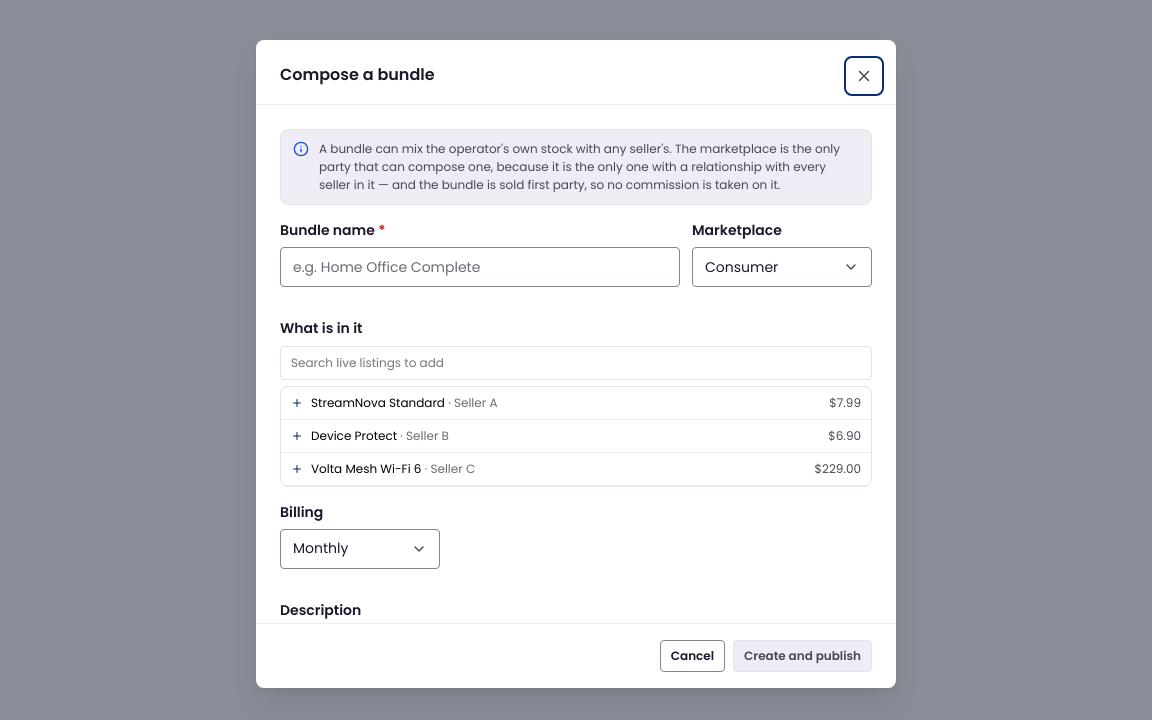
Test: Compose a bundle, priced line by line › applies a percentage to every line, stopping at each floor
The image size is (1152, 720).
Step 1. Click the button "StreamNova Standard · Seller A $7.99" → [378, 402], box [281,387,871,420]
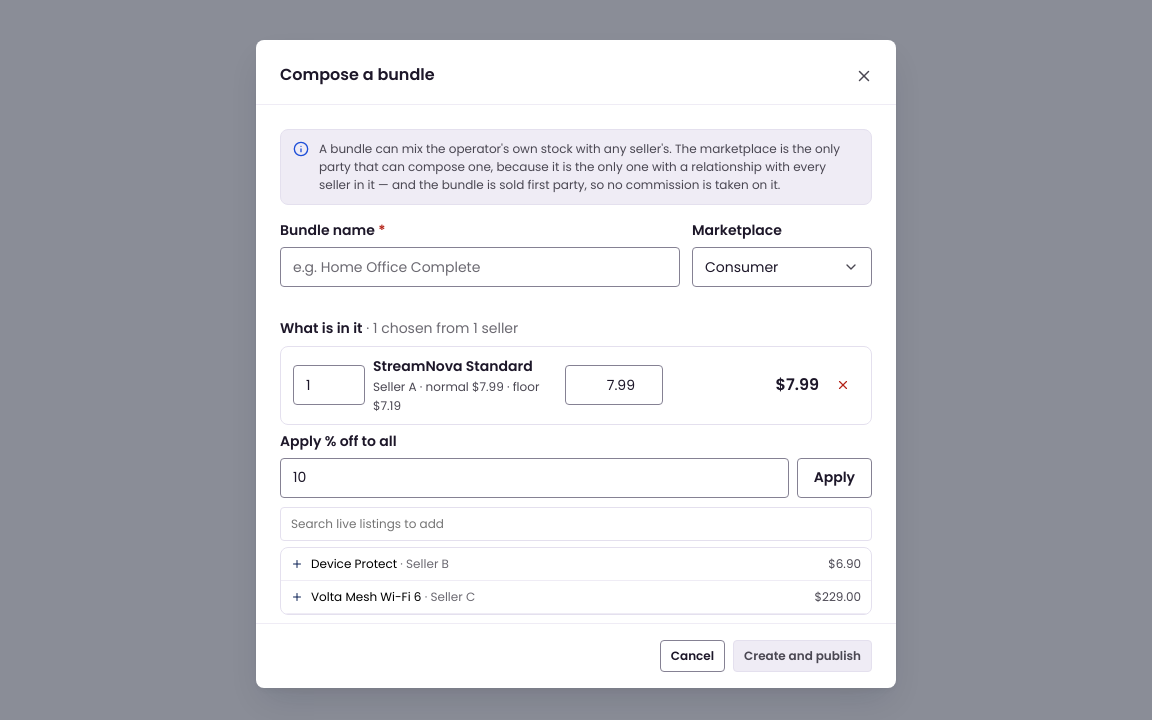
Step 2. Click the button "Volta Mesh Wi-Fi 6 · Seller C $229.00" → [366, 596], box [281,581,871,614]
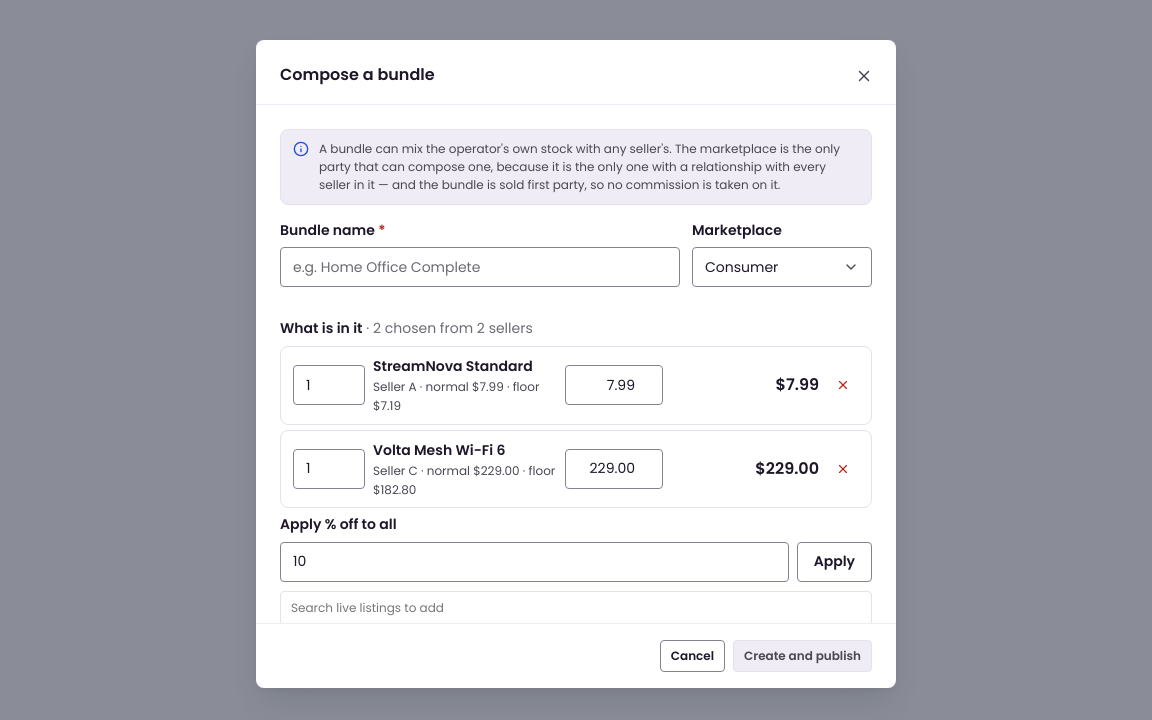
Step 3. Replace the text in the number field labelled "Apply % off to all" with "20" → [534, 562], box [280,542,789,582]
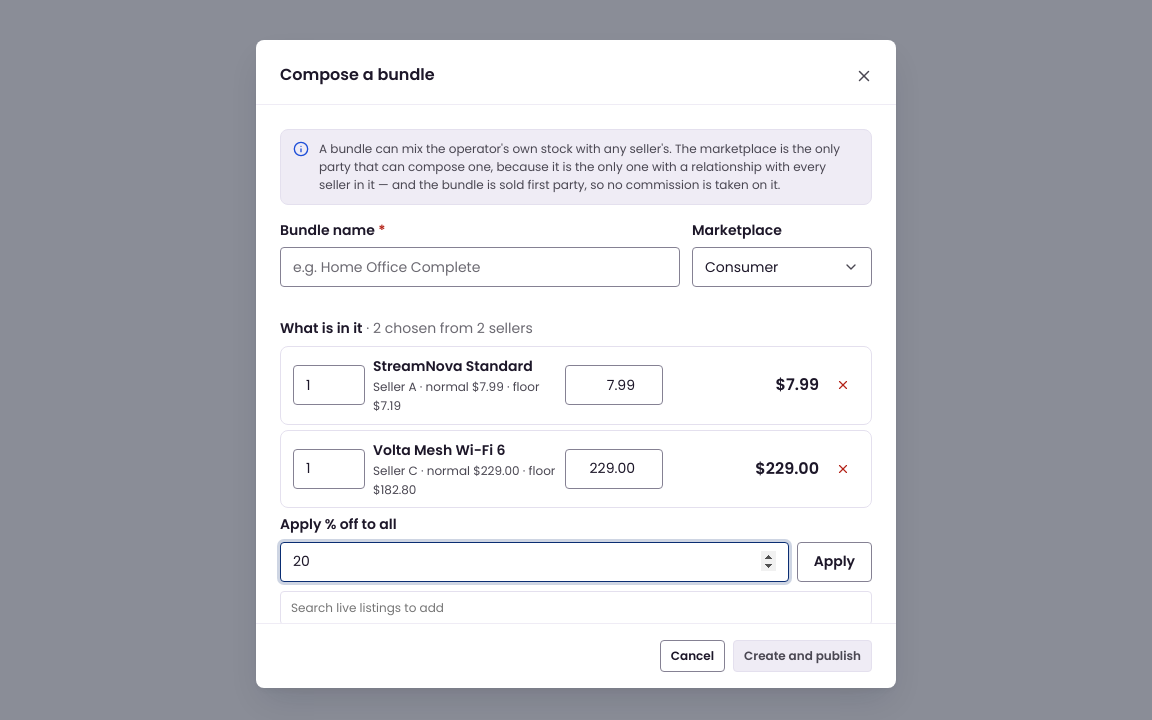
Step 4. Click the button "Apply" → [834, 562], box [797,542,872,582]
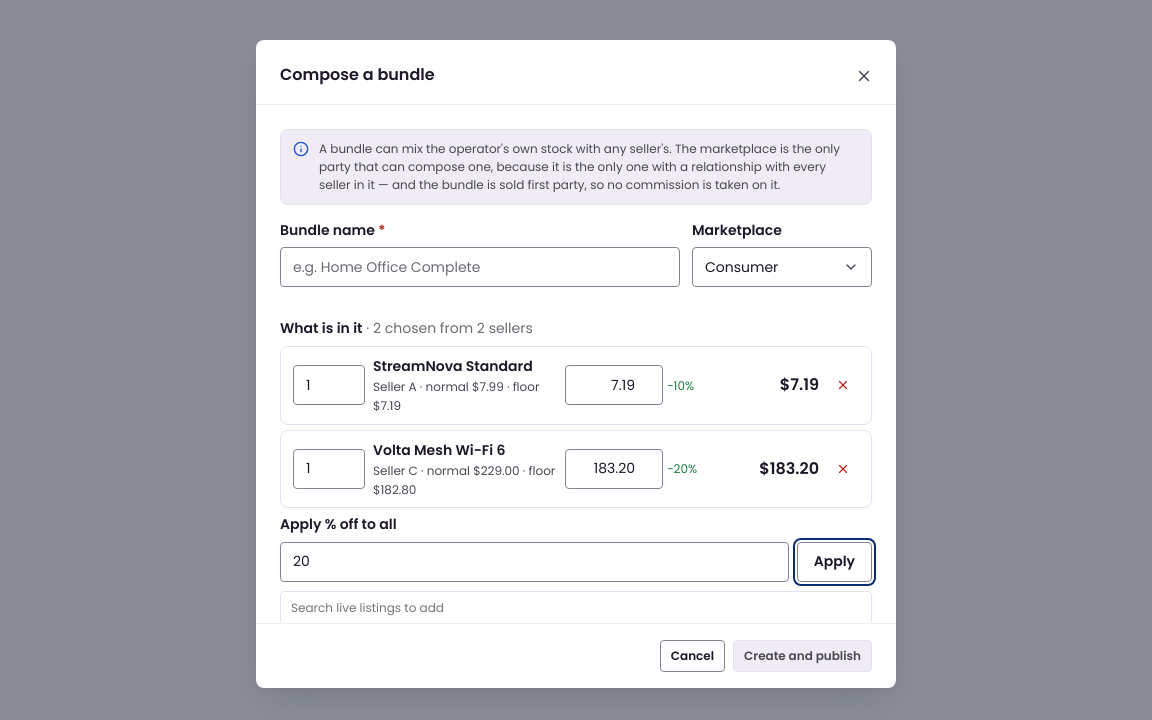
Expected: the number field named "Price in bundle for StreamNova Standard" holds "7.19", [565,365,663,405]
Expected: the number field named "Price in bundle for Volta Mesh Wi-Fi 6" holds "183.20", [565,449,663,489]
Expected: the text "−20%" is shown, [667,460,697,477]
